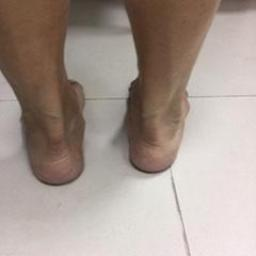Back View -Both Feet-: (10, 51, 220, 194)
